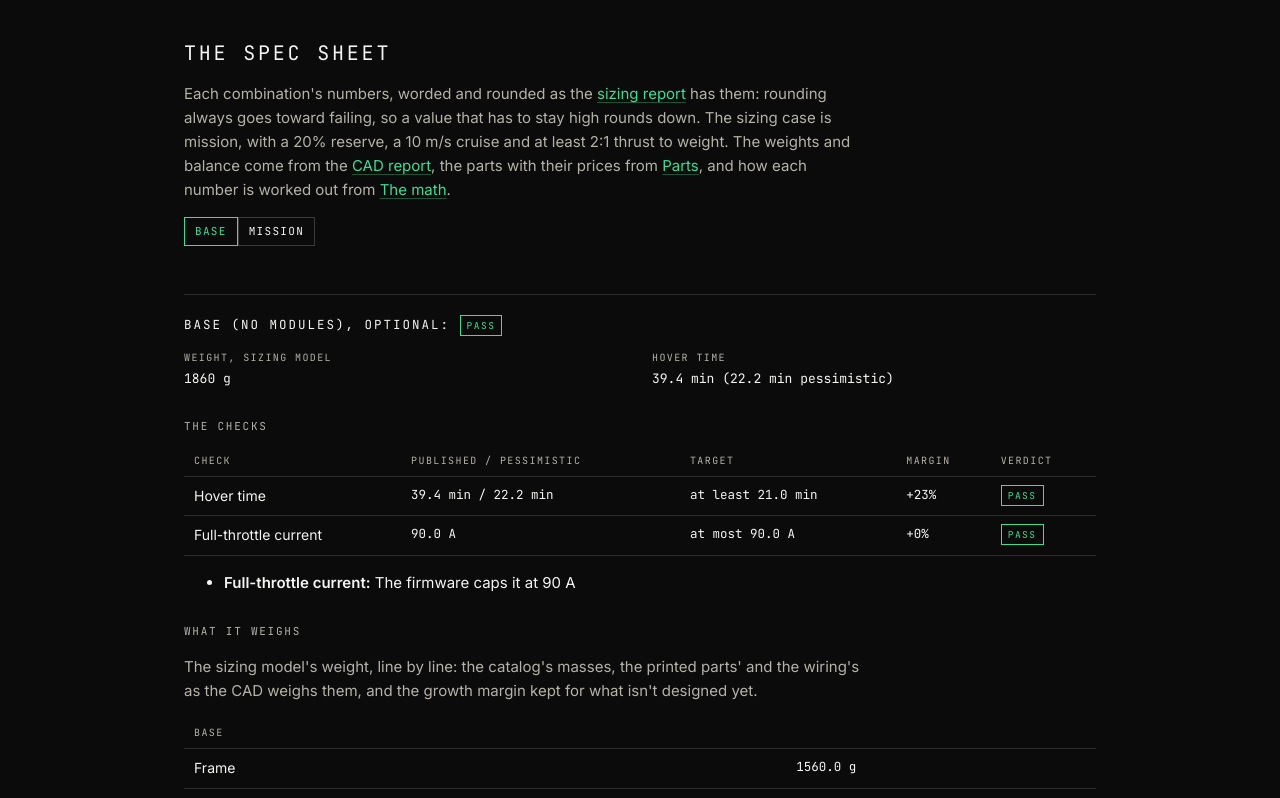
Test case: each combination's numbers show as the report words them, and picking one switches to it
Expected: the text "39.4 min (22.2 min pessimistic)" is shown, [652,370,894,387]
What coordinates should you click on to do the following:
click the tab "mission"
I would click on:
 (276, 232)
Its box is [238,217,315,246].
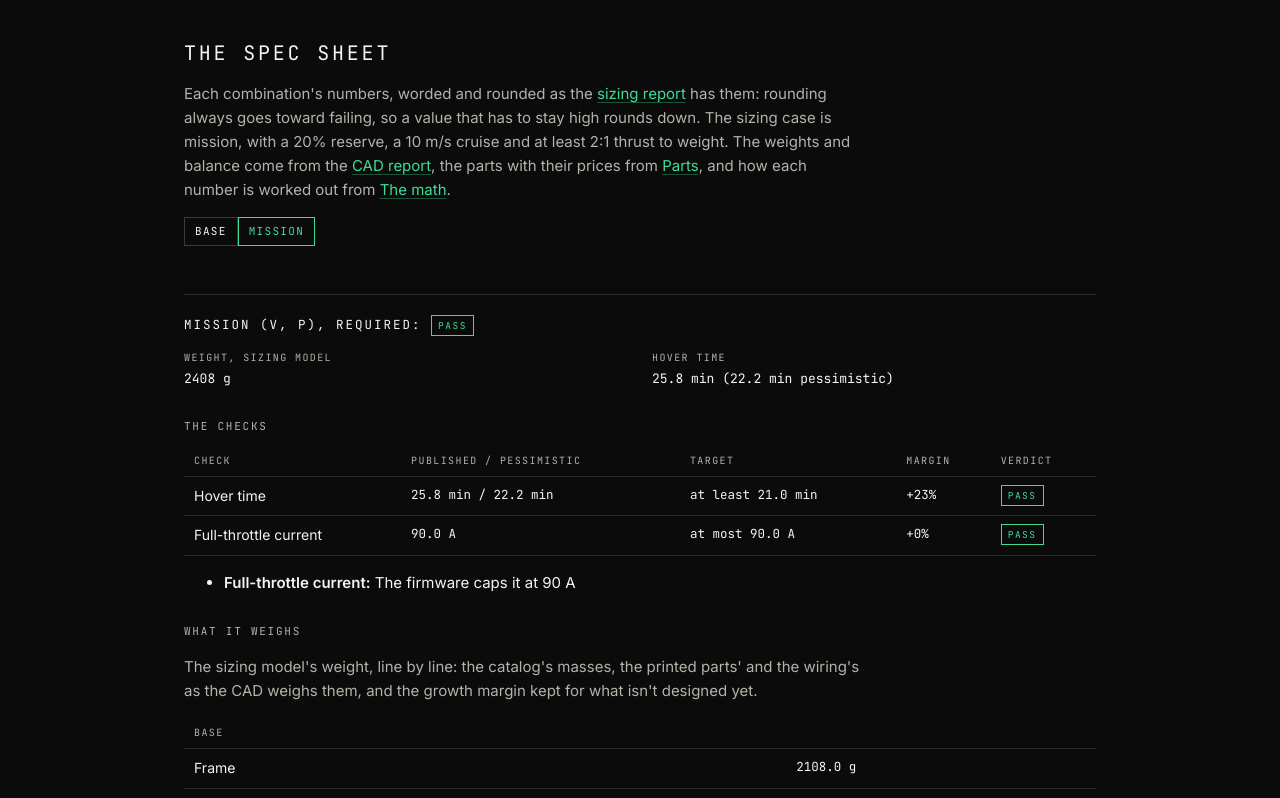
Now the text "2408 g" is shown, box [184,370,231,387]
Now the heading "mission (V, P), required: pass" is shown, box [184,294,1096,335]
